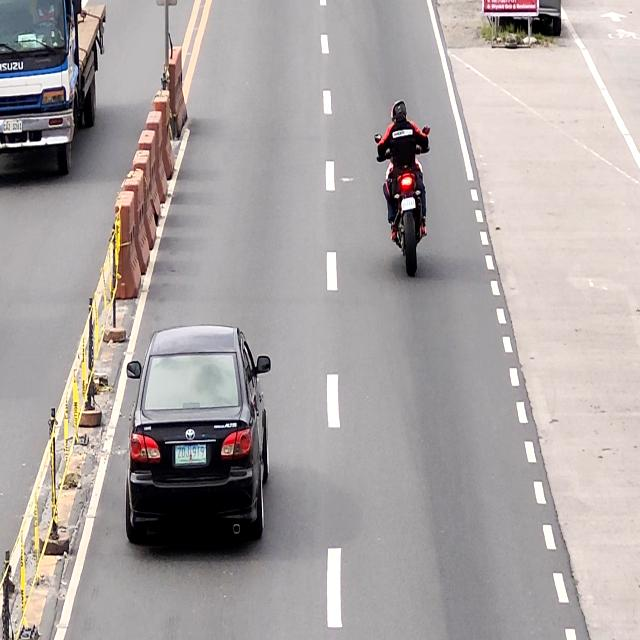Car: (124, 322, 271, 546)
License-Plate: (175, 443, 207, 464), (401, 196, 415, 212)
Motorcycle: (377, 124, 432, 276)
